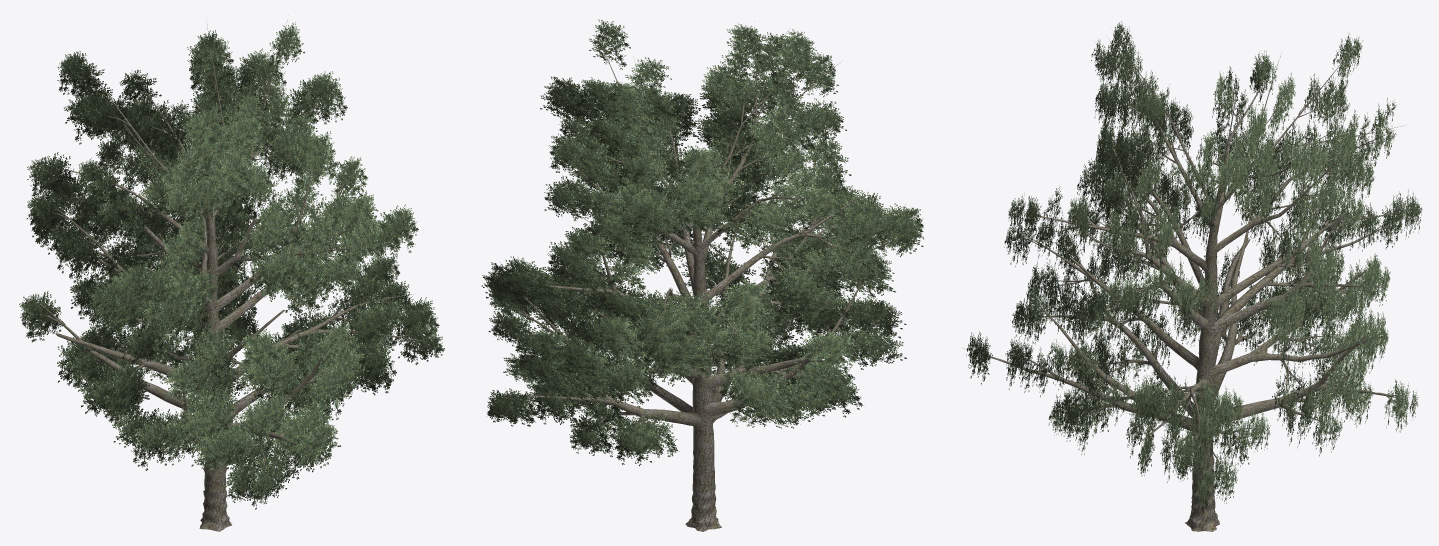
File: Tree.fbx
3 views of the same model, side by side, from view 1: azimuth 30°, elevation 25°; view 2: azimuth 150°, elevation 25°; view 3: azimuth 270°, elevation 25° (orthographic). The views are drawn at different scales.
Parts seen in each view (by area): view 1: AlanTree; view 2: AlanTree; view 3: AlanTree.
Boxes of the visible parts, x1=… form: AlanTree: x1=19, y1=21, x2=444, y2=531; AlanTree: x1=481, y1=19, x2=923, y2=531; AlanTree: x1=963, y1=21, x2=1422, y2=531.
Size of the model in its own units: 64.29 by 63.94 by 74.99.
